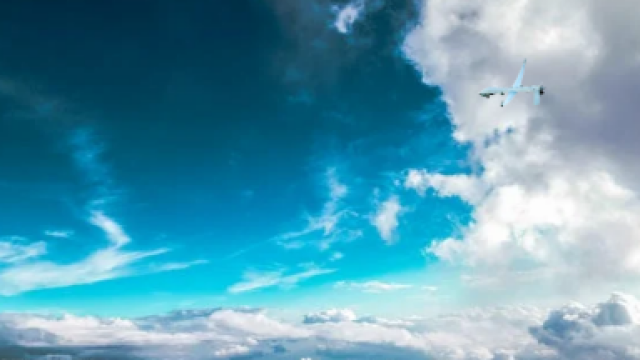military drone: (477, 57, 545, 107)
